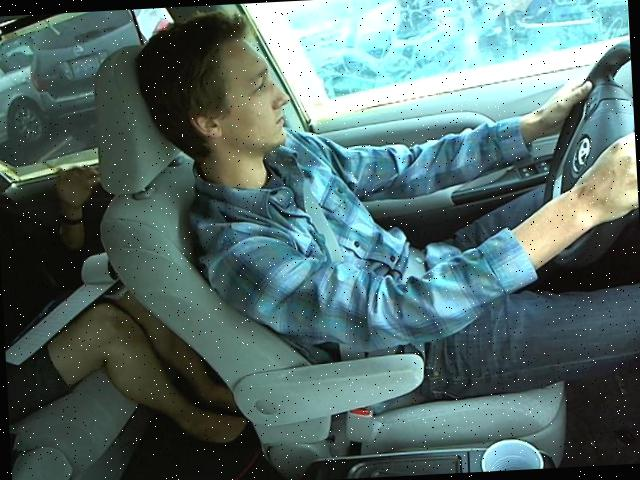c0 - Safe Driving: (128, 0, 639, 348)
